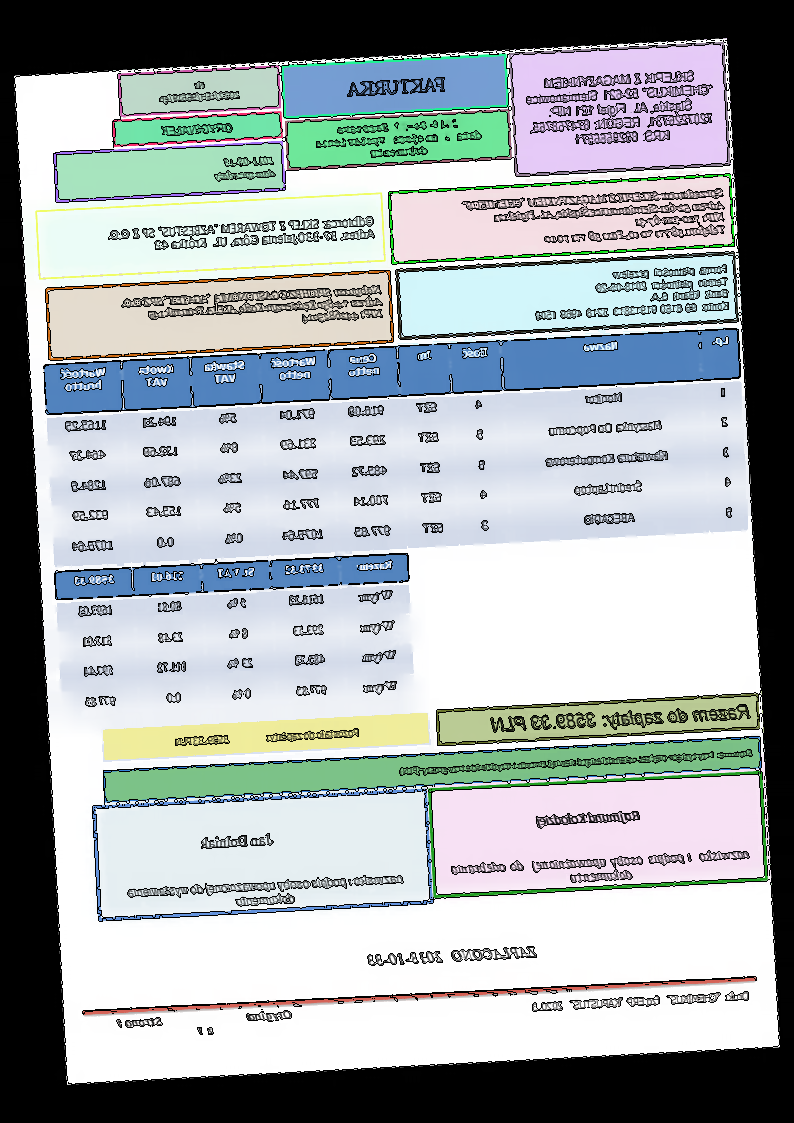Table: (42, 327, 751, 568), (53, 551, 417, 724)
TextBox: (457, 184, 730, 251), (522, 67, 717, 151), (119, 281, 385, 335), (450, 847, 752, 891), (126, 870, 406, 914), (532, 262, 733, 322), (398, 746, 756, 778), (106, 213, 378, 255), (488, 699, 753, 736), (312, 116, 485, 163), (114, 1008, 295, 1041), (531, 988, 751, 1014), (367, 943, 538, 969), (174, 725, 361, 748), (345, 74, 450, 100), (156, 77, 242, 107), (535, 808, 643, 830), (213, 153, 278, 183), (197, 831, 276, 853), (159, 119, 236, 138)
